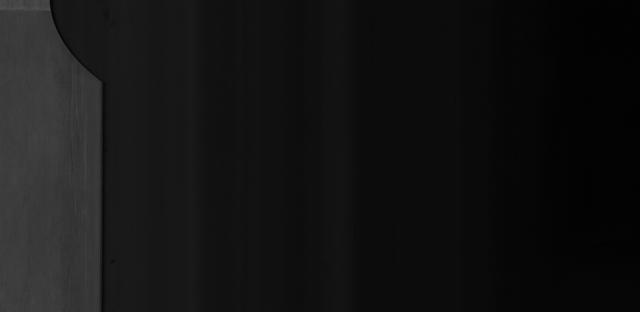crescent_gap: (42, 0, 120, 91)
welding_line: (1, 5, 66, 18)
